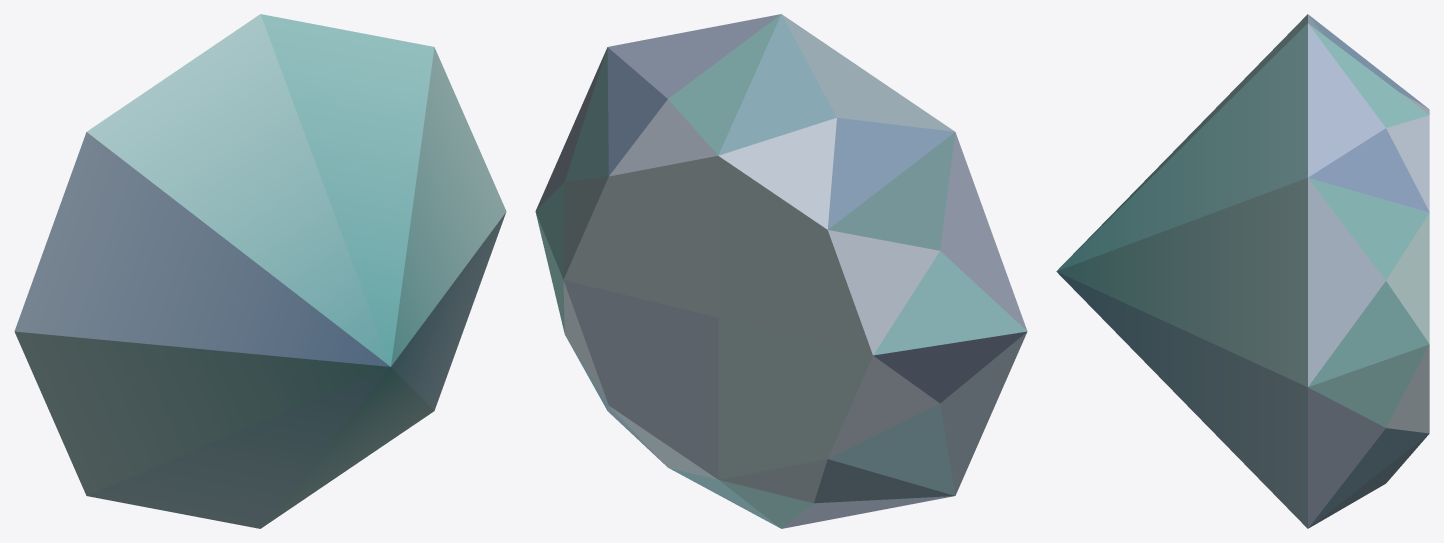
Rendered from Diamond.005.glb.
3 views of the same model, side by side, from view 1: azimuth 30°, elevation 25°; view 2: azimuth 150°, elevation 25°; view 3: azimuth 270°, elevation 25° (orthographic). The views are drawn at different scales.
Parts seen in each view (by area): view 1: Diamond.005; view 2: Diamond.005; view 3: Diamond.005.
Boxes of the visible parts, x1,y1,x2,y2 form: Diamond.005: (14,14,506,528); Diamond.005: (535,14,1027,528); Diamond.005: (1056,14,1429,528).
Size of the model in its own units: 51.03 by 51.03 by 34.78.
